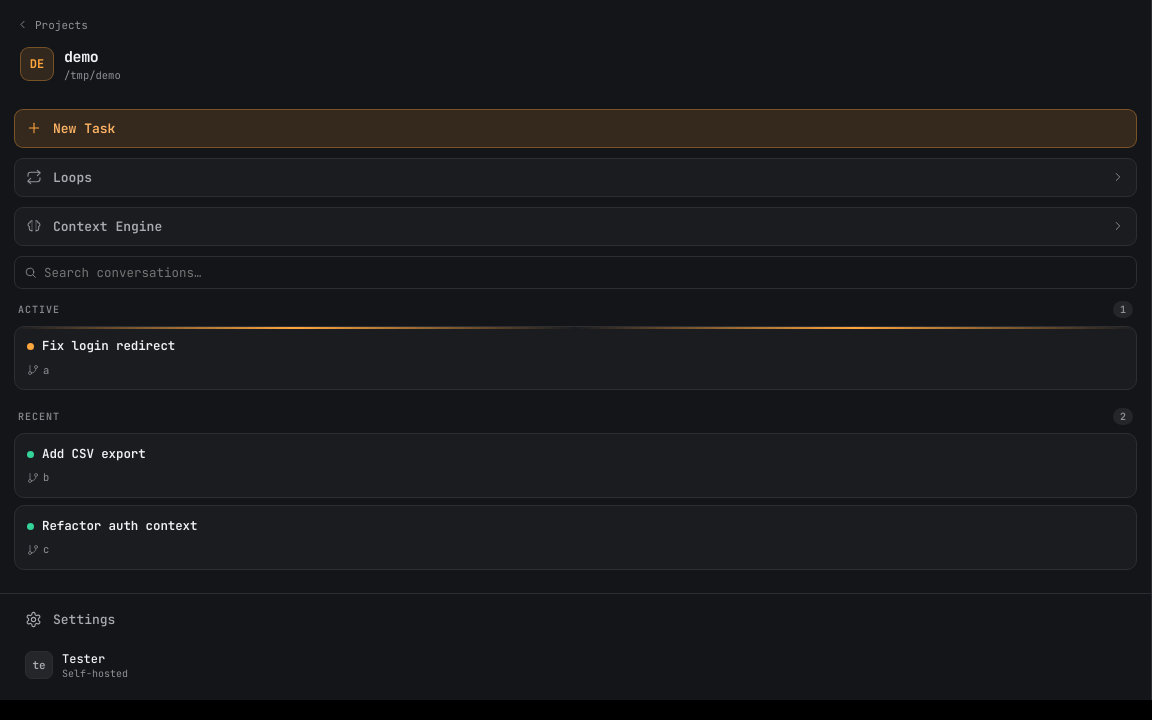
AgentsSidebar — conversation search (#116) › filters the conversation list by title as you type
Expected: the text "Fix login redirect" is shown, x1=42 y1=337 x2=175 y2=354
Expected: the text "Add CSV export" is shown, x1=42 y1=445 x2=146 y2=462
In the field labelled "Search conversations": {"x": 586, "y": 272} x1=44 y1=264 x2=1127 y2=280, type "auth"
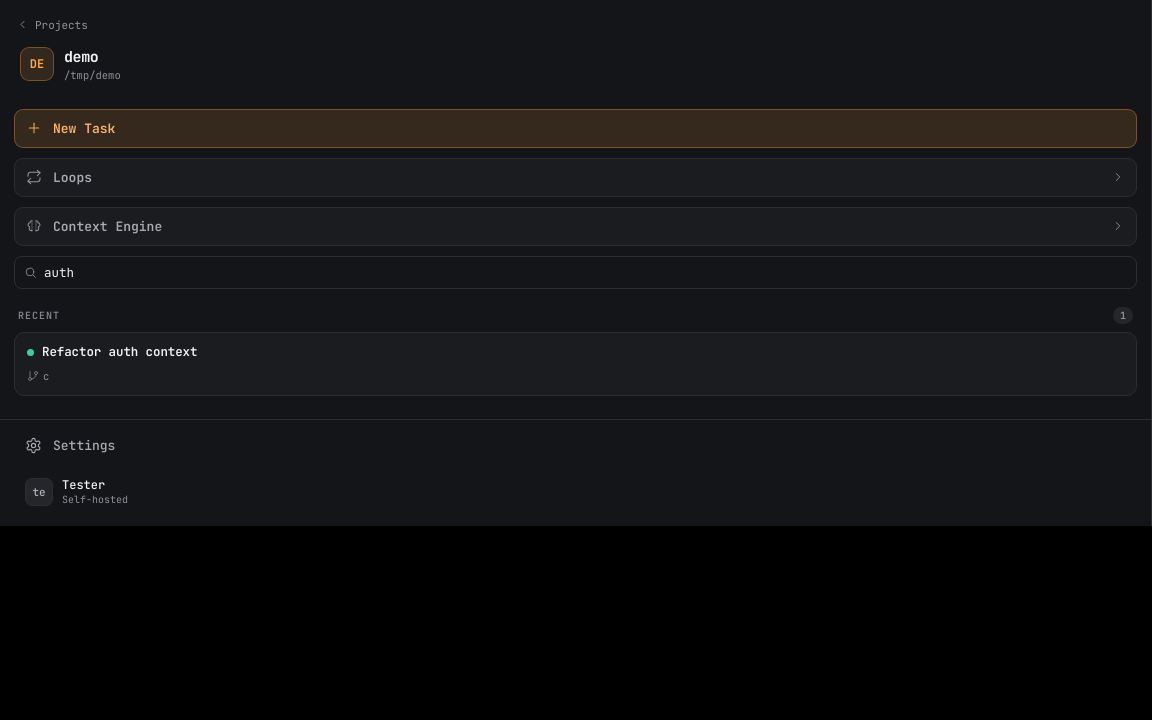
Expected: the text "Refactor auth context" is shown, x1=42 y1=343 x2=197 y2=360
Expected: the button "Add CSV export" is gone
Expected: the button "Fix login redirect" is gone
